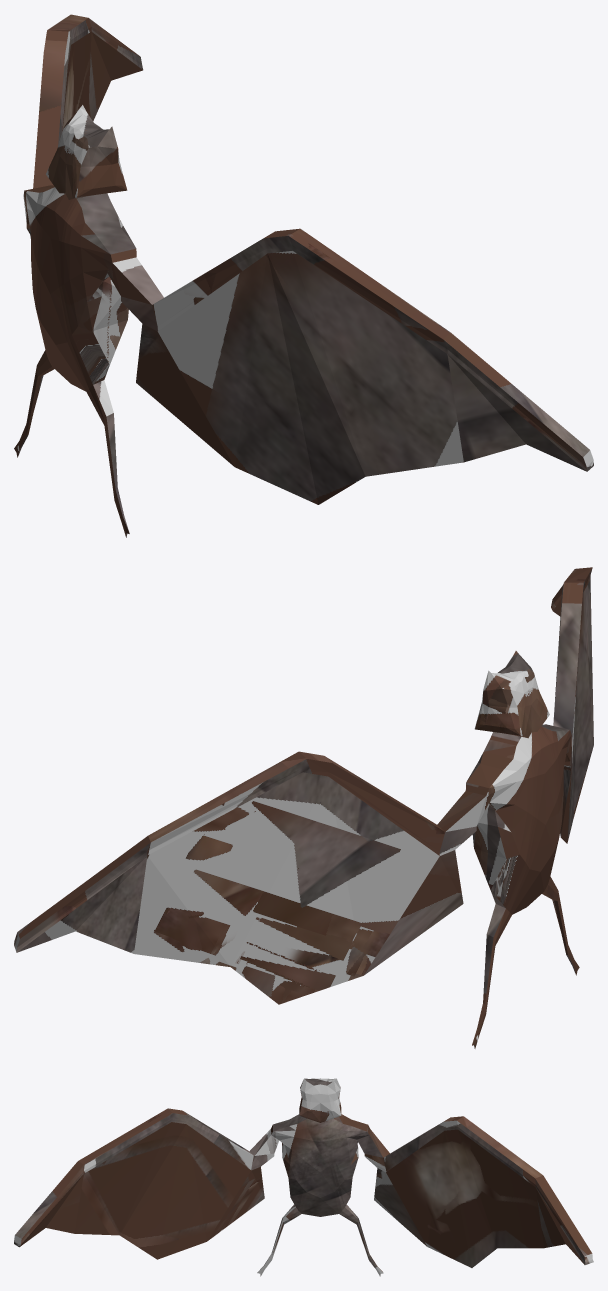
The model's file is Enemigo123.obj.
3 renders of one model, top to bottom at view 1: azimuth 30°, elevation 25°; view 2: azimuth 150°, elevation 25°; view 3: azimuth 270°, elevation 25°, orthographic. The views are drawn at different scales.
Visible parts, largest first — view 1: Plano; view 2: Plano; view 3: Plano.
Boxes of the visible parts, x1,y1,x2,y2 form: Plano: [14, 14, 593, 537]; Plano: [14, 567, 593, 1048]; Plano: [14, 1078, 593, 1276].
Size of the model in its own units: 0.7066 by 0.7578 by 1.94.
Materials: 1 (1 with a texture image).
